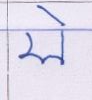o_matra: (55, 10, 69, 70)
